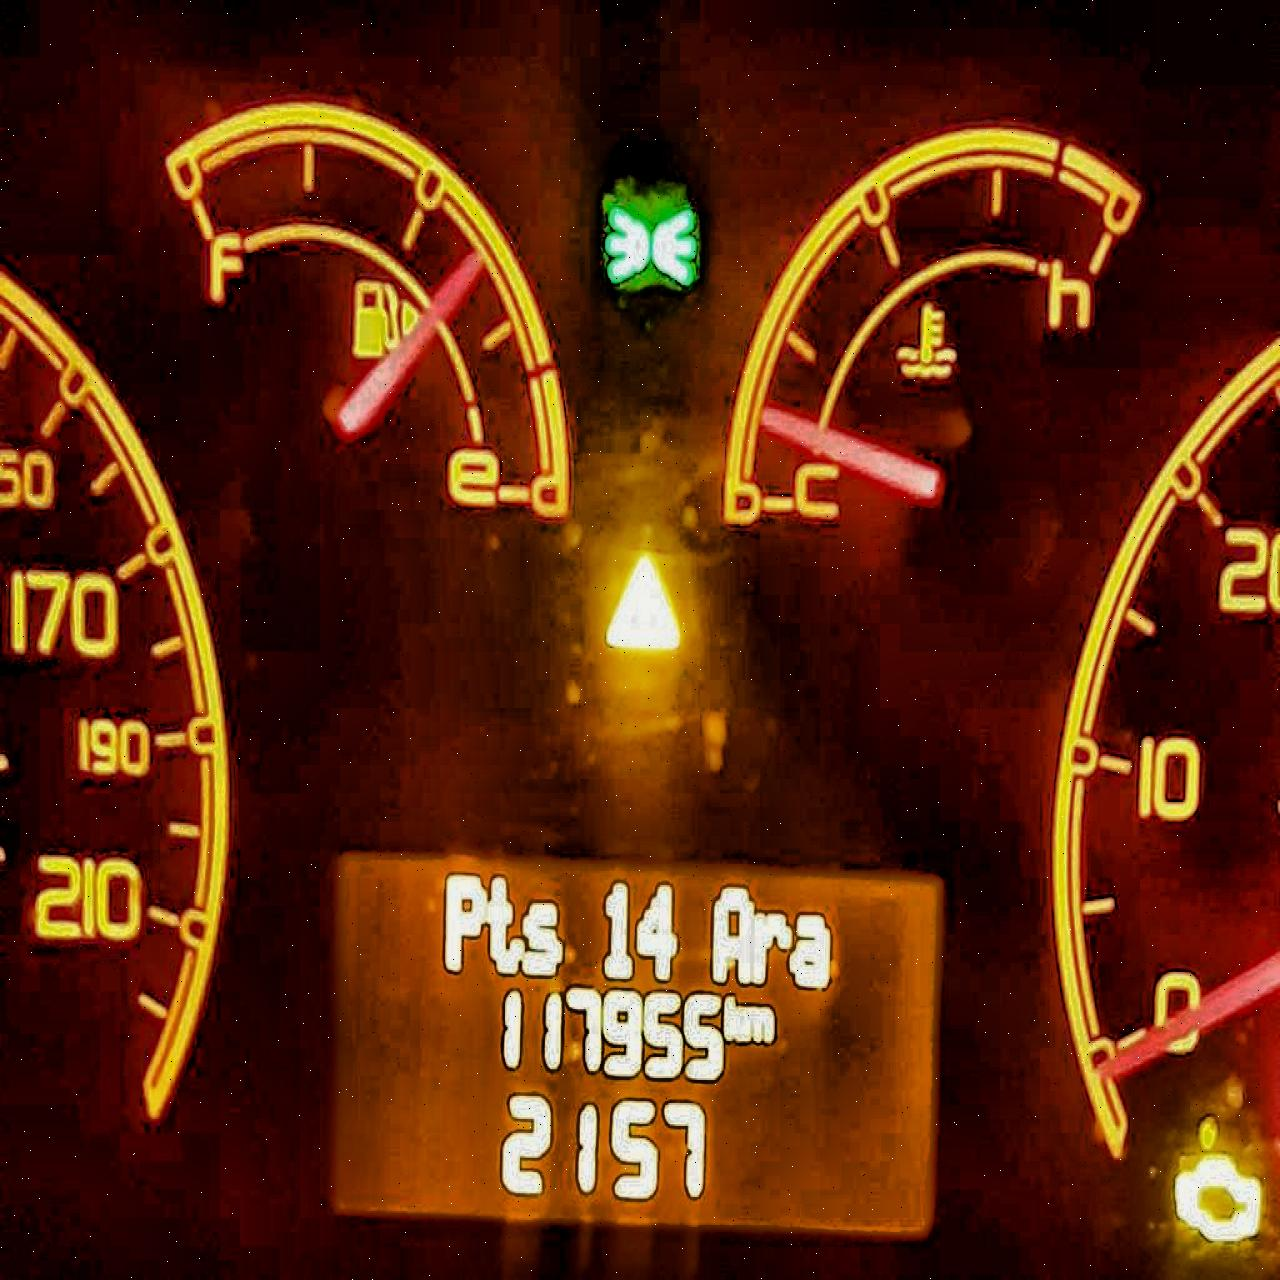1: (599, 870, 633, 985), (570, 1087, 600, 1204), (499, 981, 525, 1071), (542, 985, 561, 1076)
2: (497, 1087, 554, 1197)
4: (636, 877, 681, 982)
5: (613, 1092, 656, 1204), (683, 985, 722, 1085), (644, 981, 682, 1082)
7: (662, 1098, 707, 1200), (565, 980, 600, 1075)
9: (602, 985, 641, 1080)
X: (443, 866, 486, 972), (712, 880, 750, 990), (486, 867, 522, 979), (522, 892, 564, 978), (751, 904, 788, 989), (791, 906, 829, 988), (744, 999, 775, 1044), (723, 989, 742, 1042)
odometer: (335, 846, 949, 1241)
